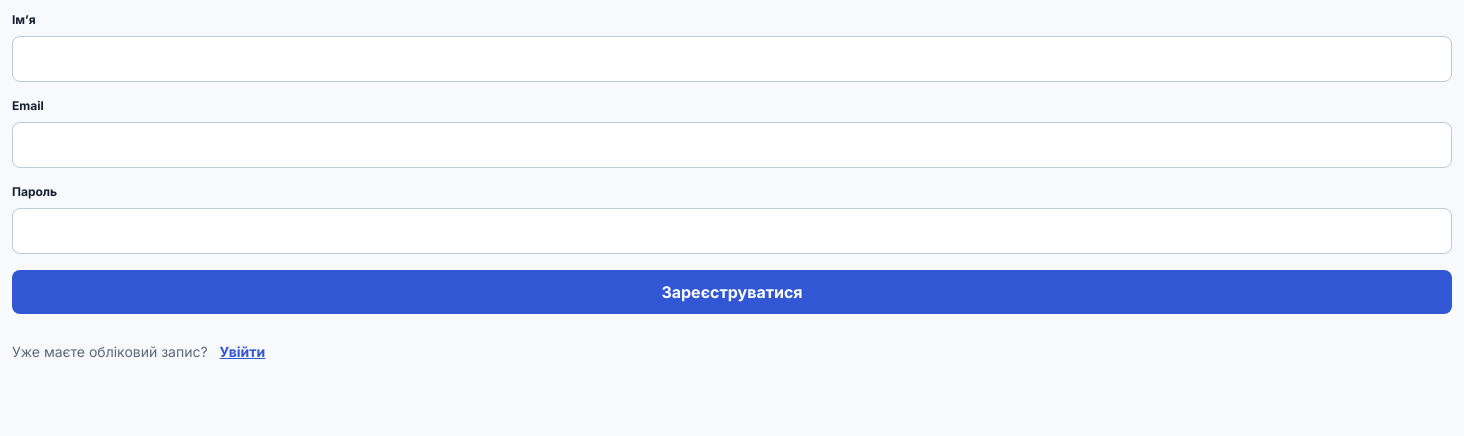
Test: RegisterForm › falls back to a general error when server field errors are malformed
This screenshot has width=1464, height=436.
Type "Олена" into the field labelled "Ім’я". click: (732, 59)
box: x1=12 y1=36 x2=1452 y2=82
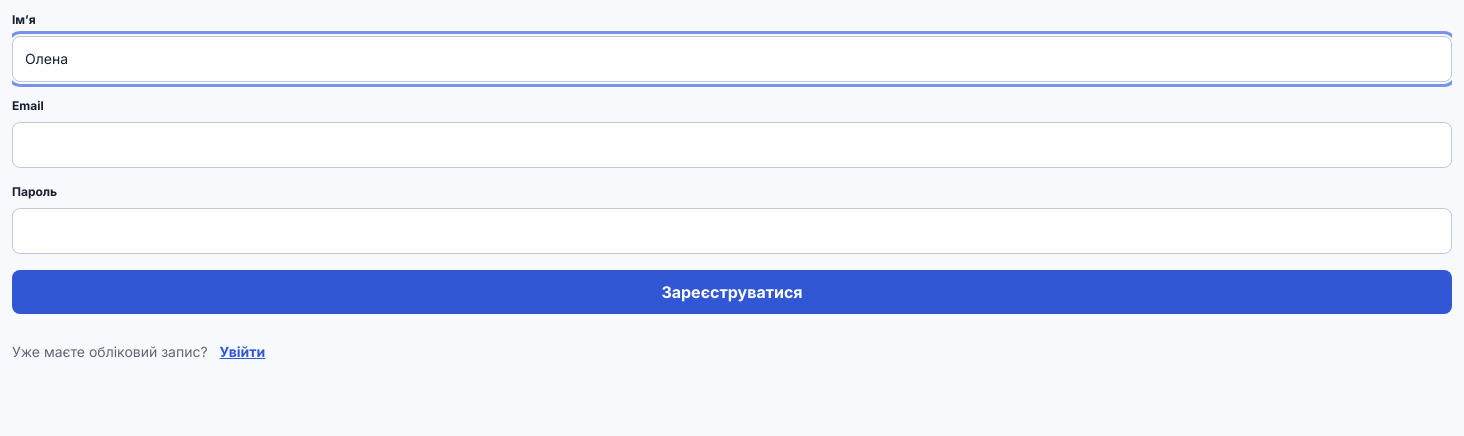
Type "olena@example.com" into the field labelled "Email". click: (732, 145)
box: x1=12 y1=122 x2=1452 y2=168
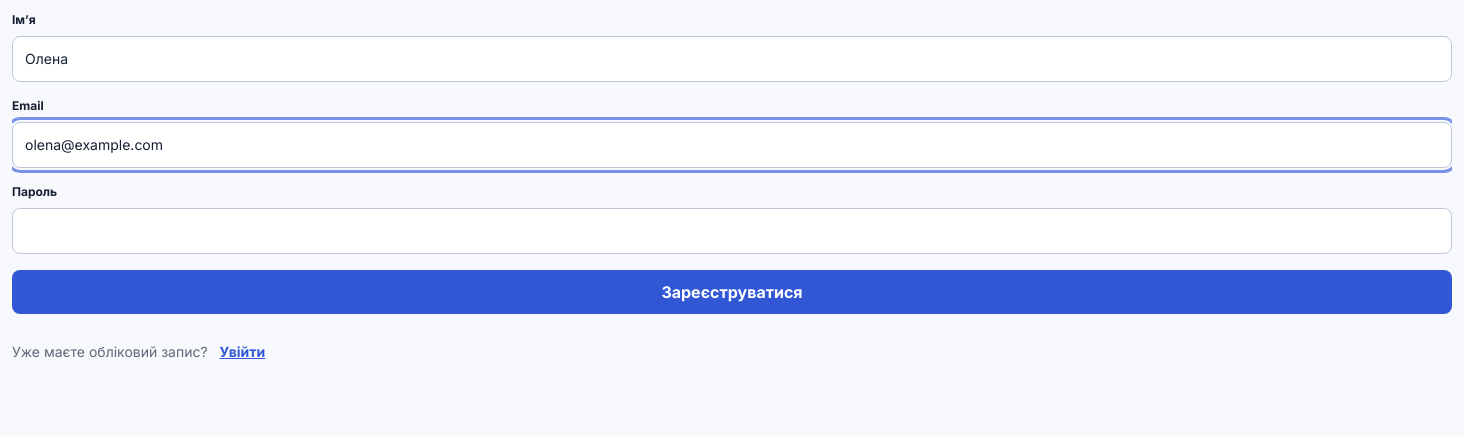
Type "secret-password" into the password field labelled "Пароль". click: (732, 231)
box: x1=12 y1=208 x2=1452 y2=254
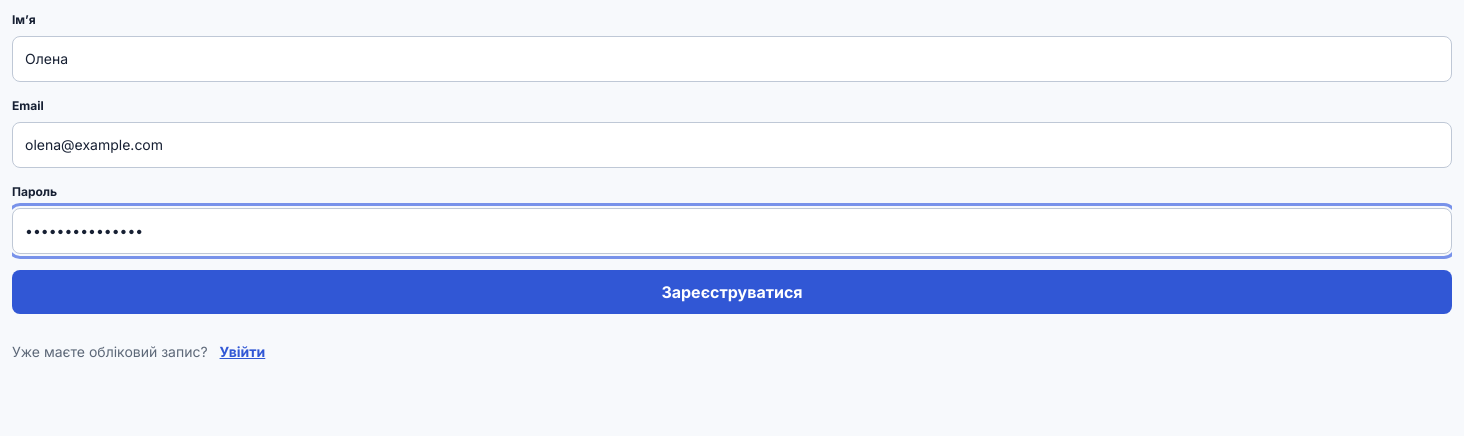
Click the button "Зареєструватися". click: click(732, 292)
box: x1=12 y1=270 x2=1452 y2=314
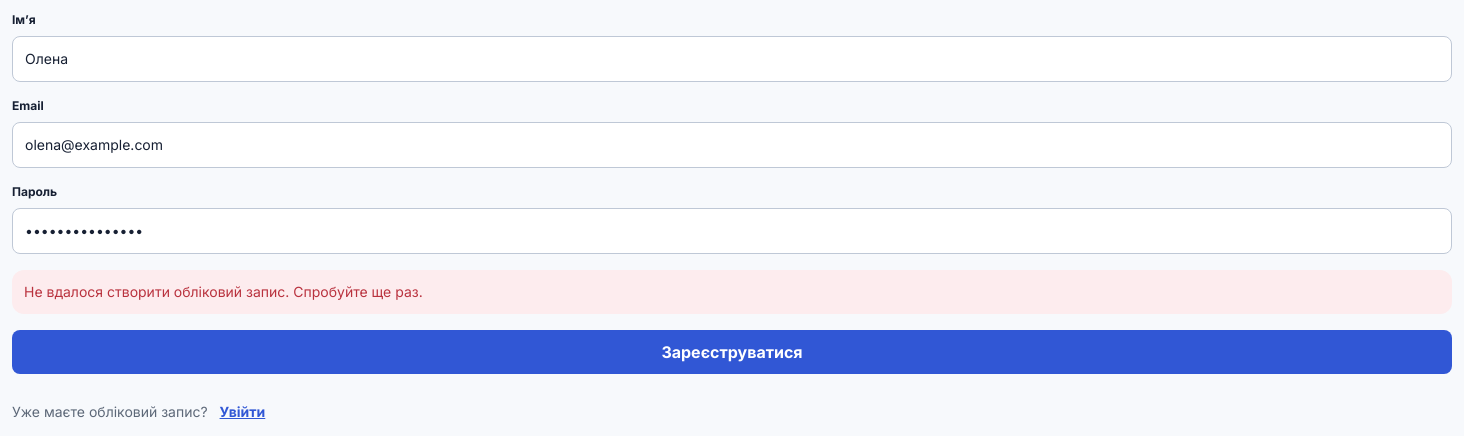
Result: the message reads "Не вдалося створити обліковий запис. Спробуйте ще раз." at x1=24 y1=283 x2=423 y2=300
